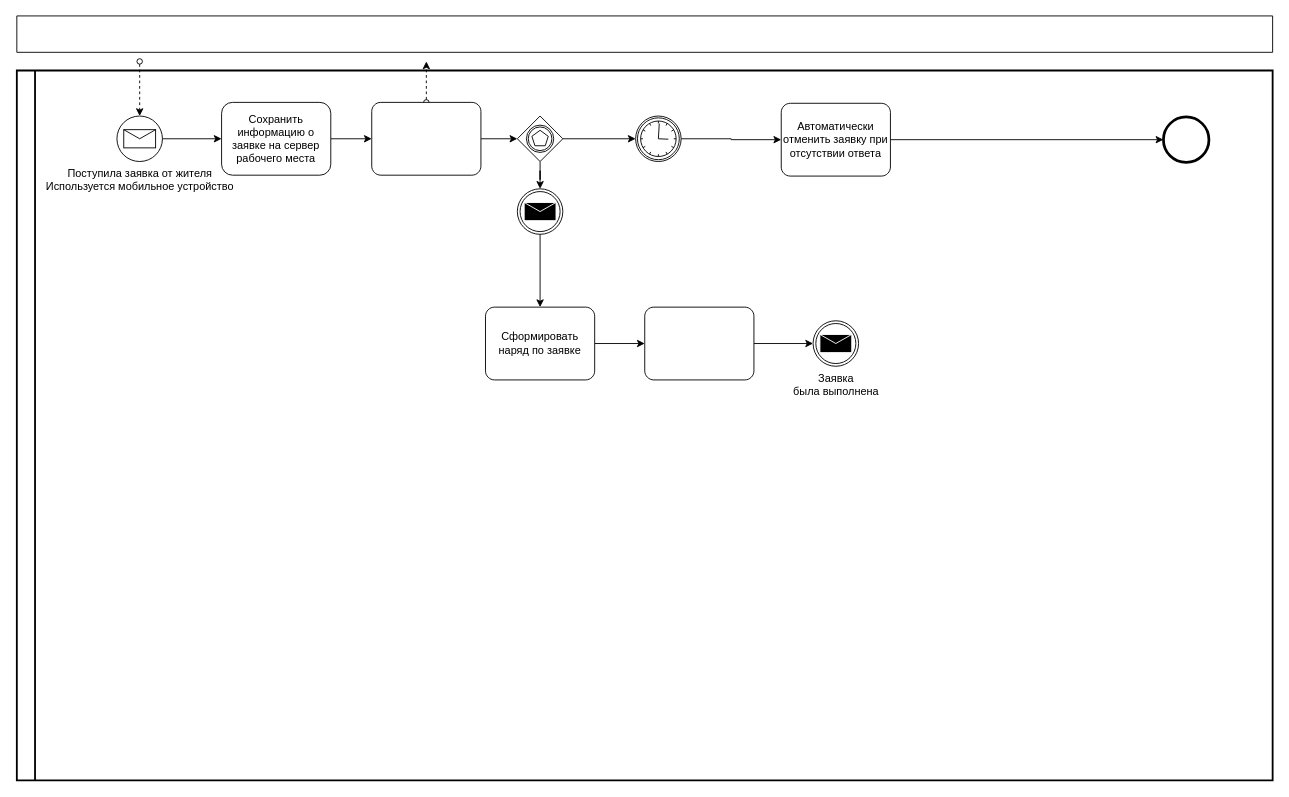
The diagram is 1289 pixels wide and 797 high, and some of its shapes have lost their labels. The centre of each missing label's shape, as x and y in pixels:
Житель: the point at 644,33
Отправить наряд на мобильное устройство выездного сотрудника: the point at 699,343
Отправить уточняющий комментарий: the point at 426,138
